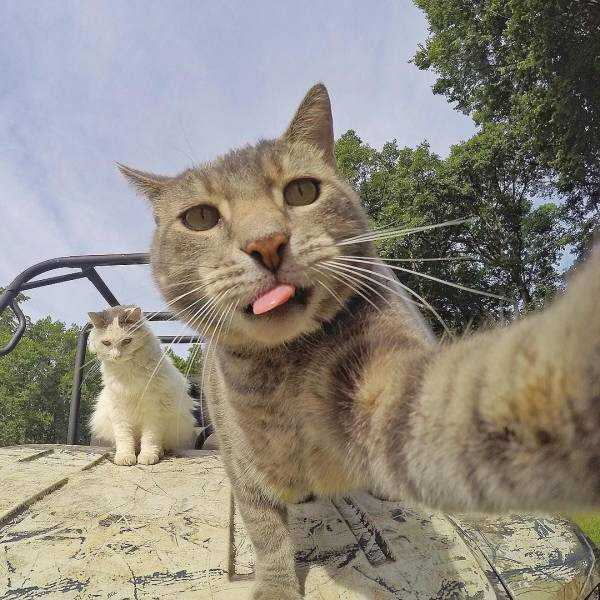cat: (146, 82, 362, 344), (71, 299, 149, 371)
